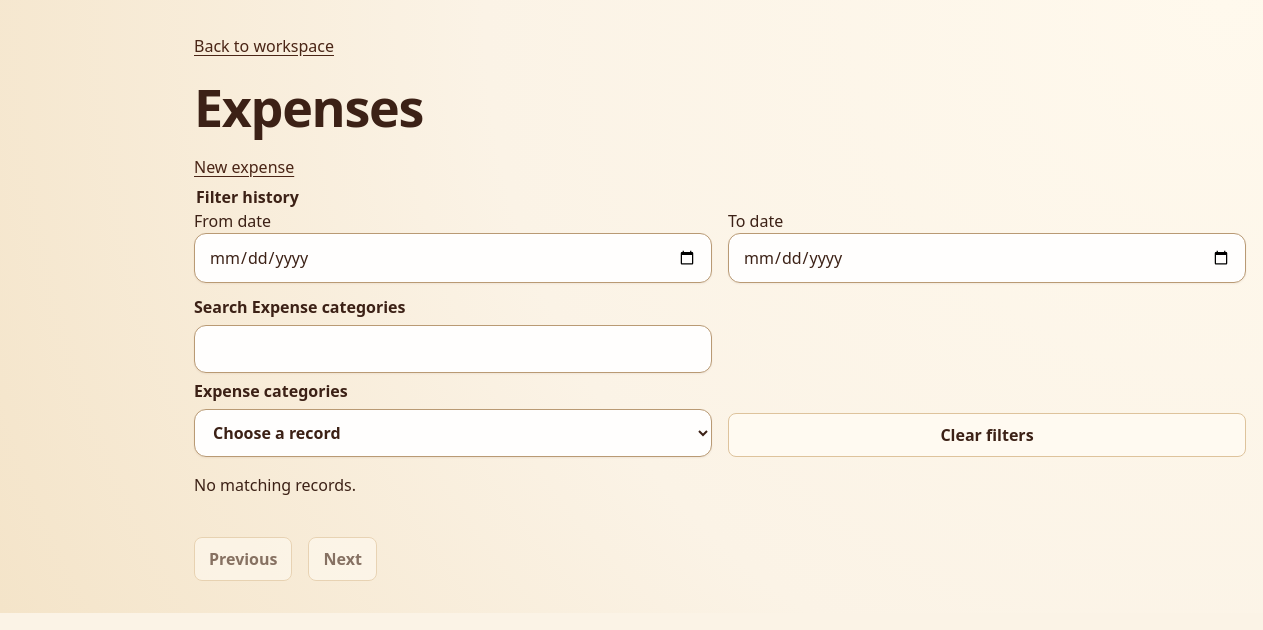
it: expense history sends date and category filters and clears them
This screenshot has width=1263, height=630.
Type "2026-01-01" into the date field labelled "From date" at point(453, 258), box [194,233,712,283]
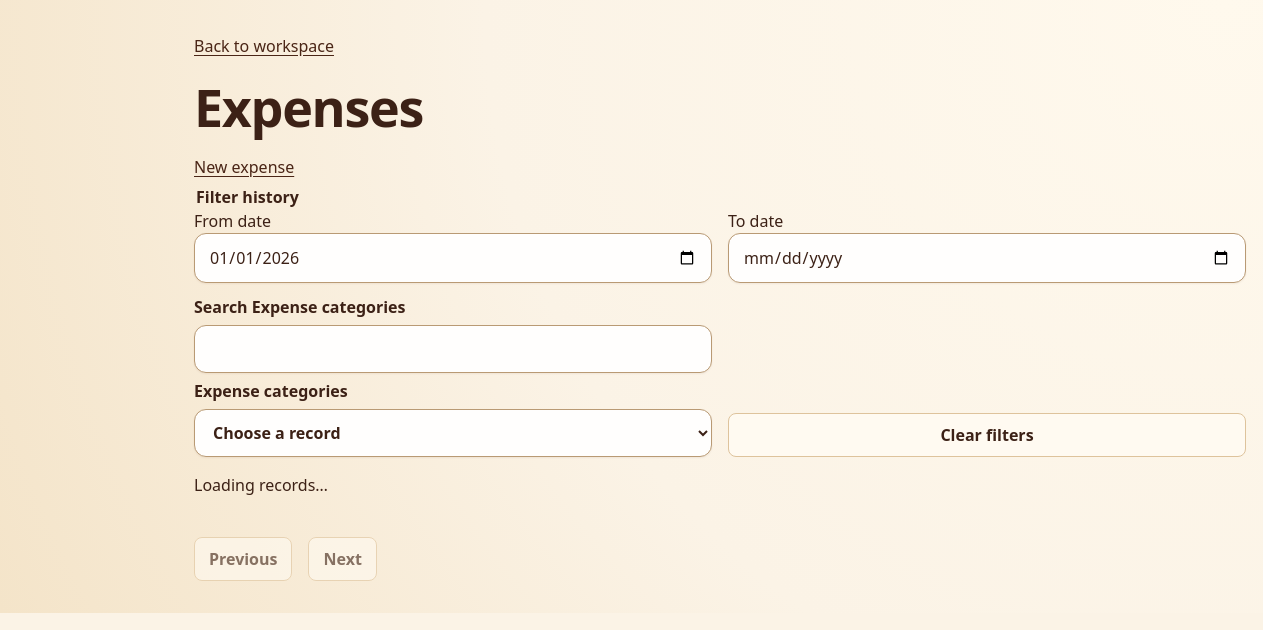
Select "Rent" in the dropdown labelled "Expense categories" at point(453, 433), box [194,409,712,457]
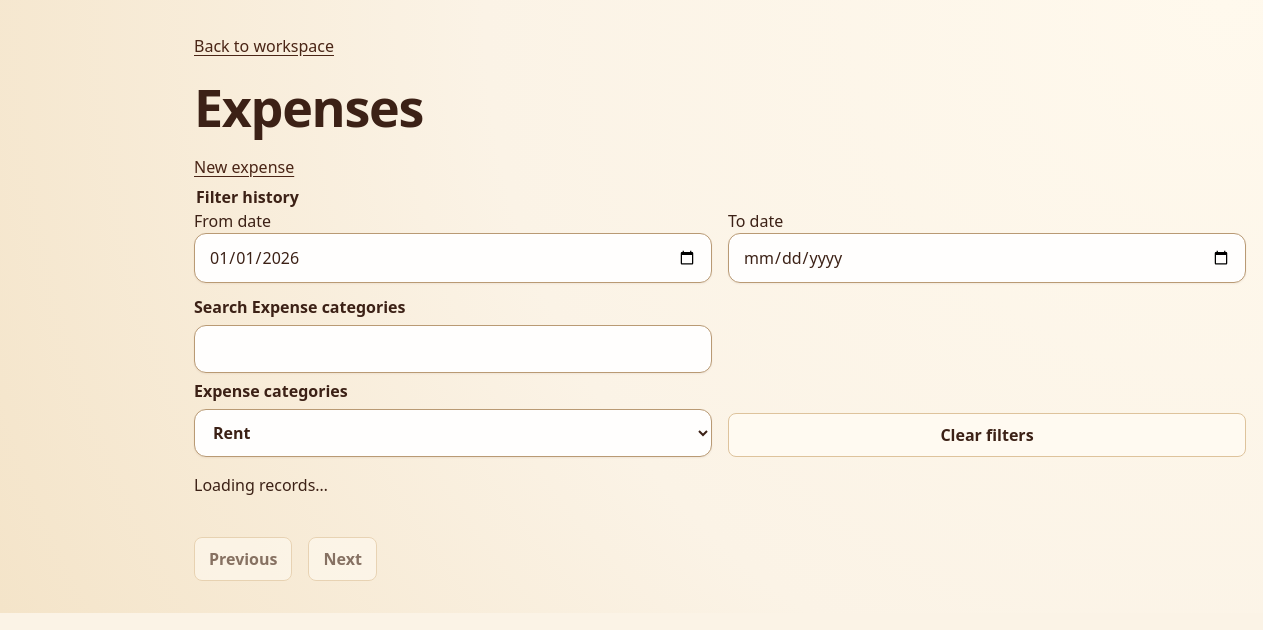
Click the button "Clear filters" at point(987, 435), box [728,413,1246,457]
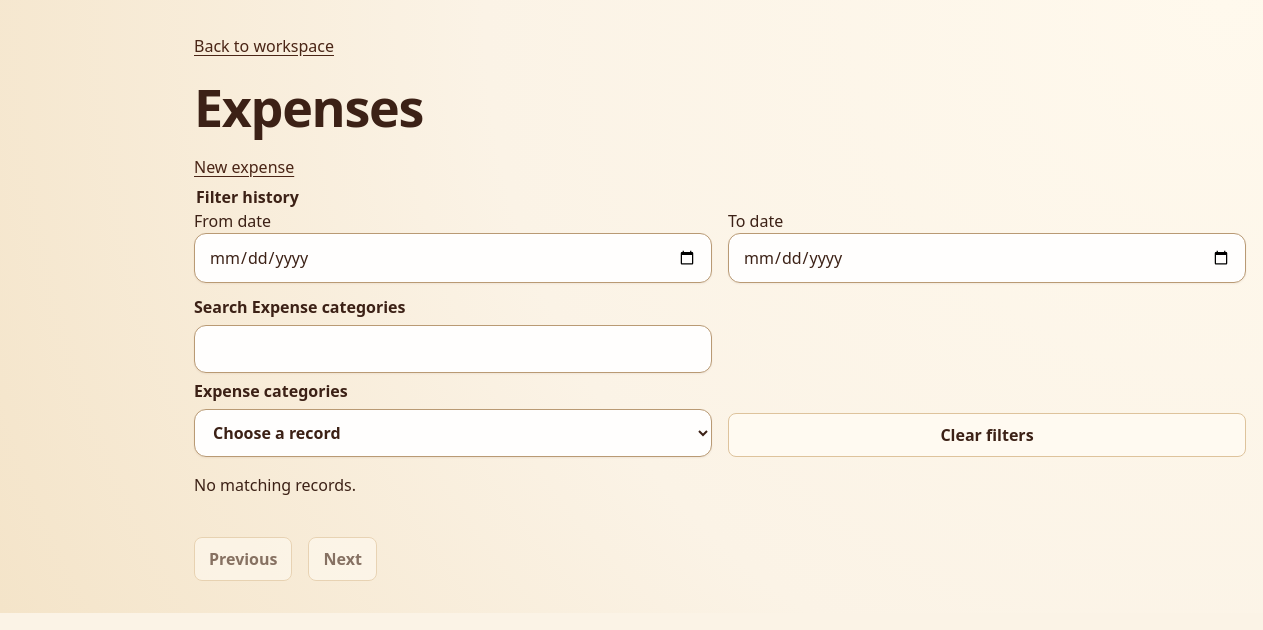
Result: the date field labelled "From date" is empty at [194,233,712,283]
